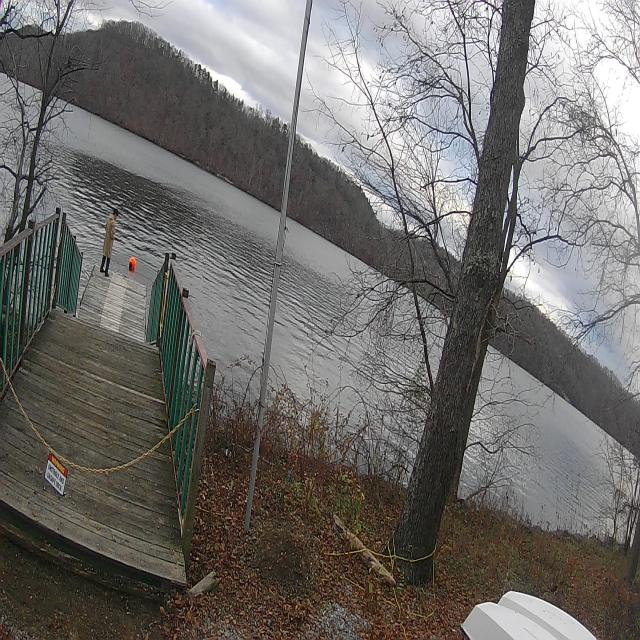Buoy: (124, 248, 142, 283)
